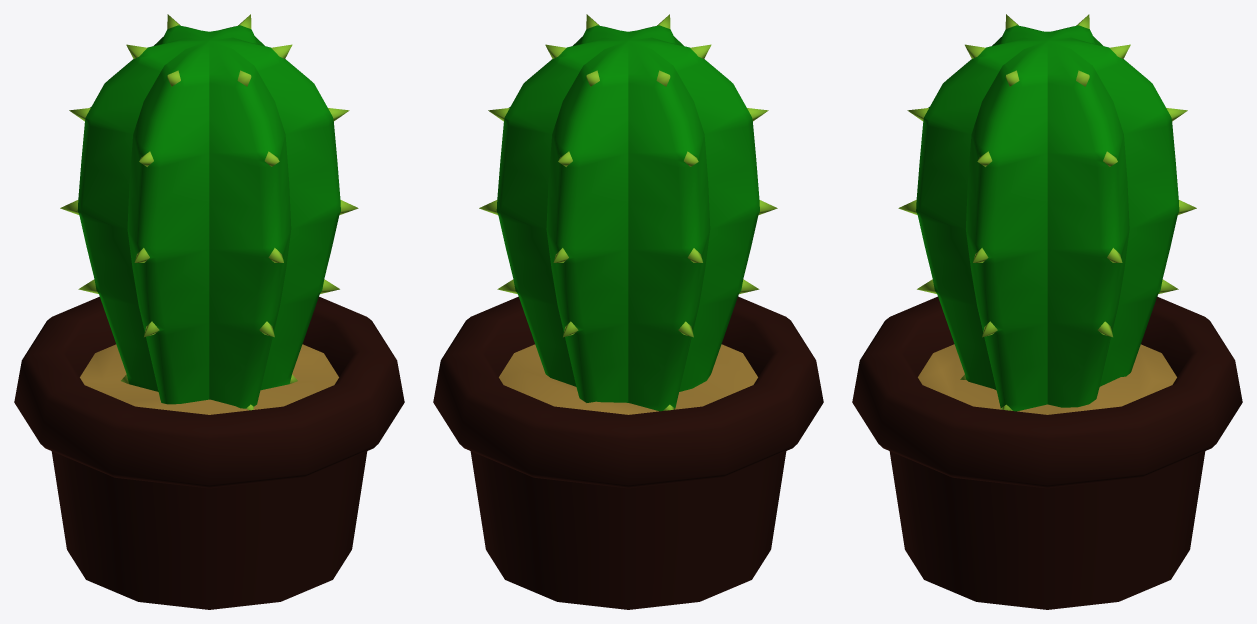
The model's file is Cactus.FBX.
3 renders of one model, left to right at view 1: azimuth 30°, elevation 25°; view 2: azimuth 150°, elevation 25°; view 3: azimuth 270°, elevation 25°, orthographic.
Parts seen in each view (by area): view 1: Cactus; view 2: Cactus; view 3: Cactus.
Boxes of the visible parts, x1,y1,x2,y2 form: Cactus: (14, 14, 404, 609); Cactus: (433, 14, 823, 609); Cactus: (852, 14, 1242, 609).
Bounding box in the file's own units: 3.07 × 4.41 × 3.07.
